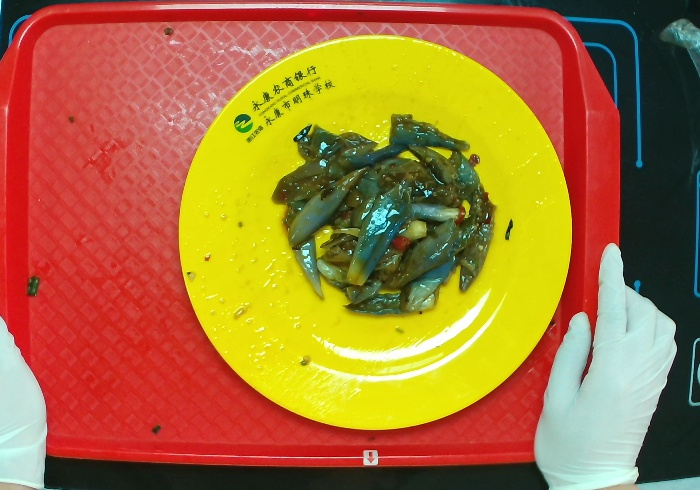YKMZ-Huang_Se_Mian_Pan: (176, 33, 576, 437)
